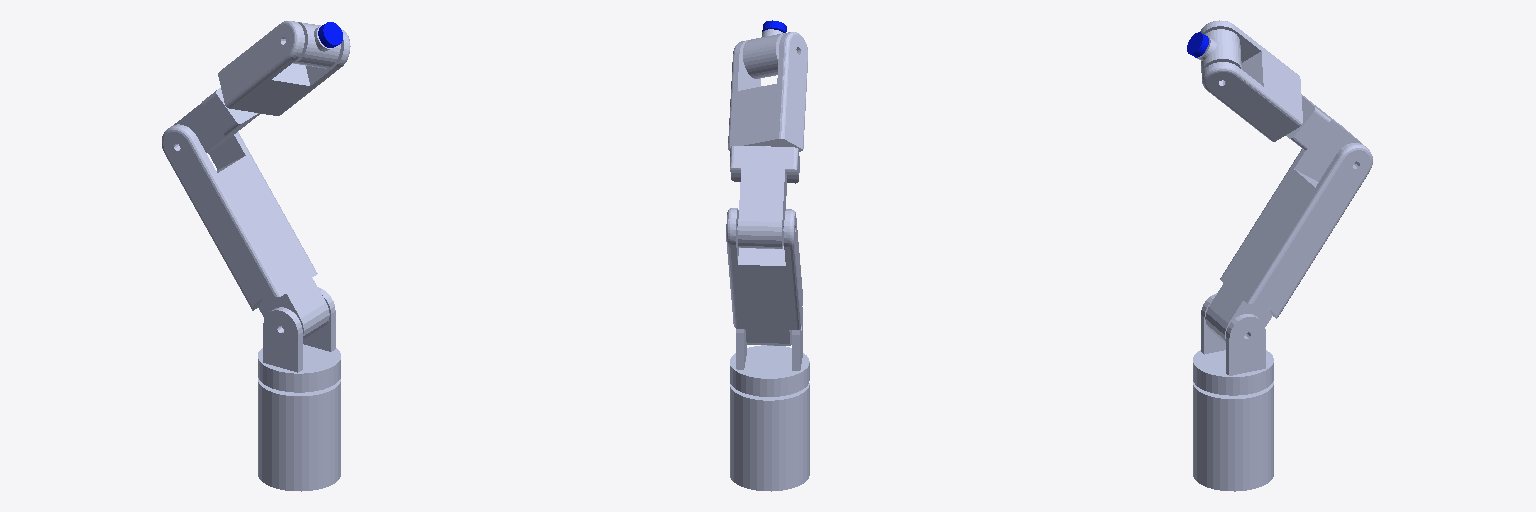
robot.urdf — project_arm:
<robot
  name="project_arm">
  <link
    name="base_link">
    <inertial>
      <origin
        xyz="0.159977322403691 0.0595697855248793 0.413545629248524"
        rpy="0 0 0" />
      <mass
        value="1.80013259050695" />
      <inertia
        ixx="0.0189018511031242"
        ixy="-3.67630047275961E-34"
        ixz="-1.26834607840043E-34"
        iyy="0.0146286691118082"
        iyz="9.52787687201713E-19"
        izz="0.0189018511031242" />
    </inertial>
    <visual>
      <origin
        xyz="0 0 0"
        rpy="0 0 0" />
      <geometry>
        <mesh
          filename="package://project_arm/meshes/base_link.STL" />
      </geometry>
      <material
        name="">
        <color
          rgba="0.792156862745098 0.819607843137255 0.933333333333333 1" />
      </material>
    </visual>
    <collision>
      <origin
        xyz="0 0 0"
        rpy="0 0 0" />
      <geometry>
        <mesh
          filename="package://project_arm/meshes/base_link.STL" />
      </geometry>
    </collision>
  </link>
  <link
    name="link0">
    <inertial>
      <origin
        xyz="0 0.0971546211411716 5.55111512312578E-17"
        rpy="0 0 0" />
      <mass
        value="2.17814144193182" />
      <inertia
        ixx="0.00956534263348092"
        ixy="-2.53143725716508E-18"
        ixz="4.33680868994202E-18"
        iyy="0.0109840073752695"
        iyz="1.62096801509212E-18"
        izz="0.0118204141151762" />
    </inertial>
    <visual>
      <origin
        xyz="0 0 0"
        rpy="0 0 0" />
      <geometry>
        <mesh
          filename="package://project_arm/meshes/link0.STL" />
      </geometry>
      <material
        name="">
        <color
          rgba="0.792156862745098 0.819607843137255 0.933333333333333 1" />
      </material>
    </visual>
    <collision>
      <origin
        xyz="0 0 0"
        rpy="0 0 0" />
      <geometry>
        <mesh
          filename="package://project_arm/meshes/link0.STL" />
      </geometry>
    </collision>
  </link>
  <joint
    name="axis_j1"
    type="revolute">
    <origin
      xyz="0.15998 -0.41355 0.12368"
      rpy="1.5708 2.681E-17 0.4532" />
    <parent
      link="base_link" />
    <child
      link="link0" />
    <axis
      xyz="0 1 0" />
    <limit
      lower="0"
      upper="6.2832"
      effort="0"
      velocity="0" />
  </joint>
  <link
    name="link1">
    <inertial>
      <origin
        xyz="2.99081225813708E-05 0.222632356912476 -9.29911836422548E-09"
        rpy="0 0 0" />
      <mass
        value="7.3527213171933" />
      <inertia
        ixx="0.149186053731648"
        ixy="3.13377626616771E-05"
        ixz="5.54679830920557E-08"
        iyy="0.0236983446969305"
        iyz="4.00754568332523E-09"
        izz="0.160879129783125" />
    </inertial>
    <visual>
      <origin
        xyz="0 0 0"
        rpy="0 0 0" />
      <geometry>
        <mesh
          filename="package://project_arm/meshes/link1.STL" />
      </geometry>
      <material
        name="">
        <color
          rgba="0.792156862745098 0.819607843137255 0.933333333333333 1" />
      </material>
    </visual>
    <collision>
      <origin
        xyz="0 0 0"
        rpy="0 0 0" />
      <geometry>
        <mesh
          filename="package://project_arm/meshes/link1.STL" />
      </geometry>
    </collision>
  </link>
  <joint
    name="axis_j2"
    type="revolute">
    <origin
      xyz="0 0.2 0"
      rpy="-0.62955 1.1102E-16 2.2204E-16" />
    <parent
      link="link0" />
    <child
      link="link1" />
    <axis
      xyz="1 0 0" />
    <limit
      lower="0"
      upper="6.2832"
      effort="0"
      velocity="0" />
  </joint>
  <link
    name="link2">
    <inertial>
      <origin
        xyz="-4.56502158296956E-09 0.0917546272457259 8.38033594602328E-09"
        rpy="0 0 0" />
      <mass
        value="2.92510845298576" />
      <inertia
        ixx="0.0193492144276055"
        ixy="9.67300179625236E-10"
        ixz="-1.1115823172949E-08"
        iyy="0.00654059433308316"
        iyz="-1.61287542620615E-09"
        izz="0.0175539353671357" />
    </inertial>
    <visual>
      <origin
        xyz="0 0 0"
        rpy="0 0 0" />
      <geometry>
        <mesh
          filename="package://project_arm/meshes/link2.STL" />
      </geometry>
      <material
        name="">
        <color
          rgba="0.792156862745098 0.819607843137255 0.933333333333333 1" />
      </material>
    </visual>
    <collision>
      <origin
        xyz="0 0 0"
        rpy="0 0 0" />
      <geometry>
        <mesh
          filename="package://project_arm/meshes/link2.STL" />
      </geometry>
    </collision>
  </link>
  <joint
    name="axis_j3"
    type="revolute">
    <origin
      xyz="0 0.5 0"
      rpy="1.5708 0.1463 1.5708" />
    <parent
      link="link1" />
    <child
      link="link2" />
    <axis
      xyz="0 0 1" />
    <limit
      lower="0"
      upper="6.28319"
      effort="0"
      velocity="0" />
  </joint>
  <link
    name="link3">
    <inertial>
      <origin
        xyz="1.11022302462516E-16 0.242837676403035 -5.55111512312578E-17"
        rpy="0 0 0" />
      <mass
        value="3.21530703455778" />
      <inertia
        ixx="0.0196189620102763"
        ixy="-1.8702487475375E-18"
        ixz="-1.39319979164387E-17"
        iyy="0.0121713416202854"
        iyz="-1.30104260698261E-18"
        izz="0.0265745317184481" />
    </inertial>
    <visual>
      <origin
        xyz="0 0 0"
        rpy="0 0 0" />
      <geometry>
        <mesh
          filename="package://project_arm/meshes/link3.STL" />
      </geometry>
      <material
        name="">
        <color
          rgba="0.792156862745098 0.819607843137255 0.933333333333333 1" />
      </material>
    </visual>
    <collision>
      <origin
        xyz="0 0 0"
        rpy="0 0 0" />
      <geometry>
        <mesh
          filename="package://project_arm/meshes/link3.STL" />
      </geometry>
    </collision>
  </link>
  <joint
    name="axis_j4"
    type="revolute">
    <origin
      xyz="0 0.071612 0"
      rpy="2.5553E-15 1.0223 2.4555E-15" />
    <parent
      link="link2" />
    <child
      link="link3" />
    <axis
      xyz="0 1 0" />
    <limit
      lower="0"
      upper="6.28319"
      effort="0"
      velocity="0" />
  </joint>
  <link
    name="link4">
    <inertial>
      <origin
        xyz="0.00199200479944683 -1.36459765154306E-08 2.12170278290902E-08"
        rpy="0 0 0" />
      <mass
        value="0.782661488302697" />
      <inertia
        ixx="0.00113485480500718"
        ixy="9.18611188472588E-10"
        ixz="-6.0844670547085E-10"
        iyy="0.00120750348178087"
        iyz="1.20797542255754E-09"
        izz="0.00107133390488715" />
    </inertial>
    <visual>
      <origin
        xyz="0 0 0"
        rpy="0 0 0" />
      <geometry>
        <mesh
          filename="package://project_arm/meshes/link4.STL" />
      </geometry>
      <material
        name="">
        <color
          rgba="0.792156862745098 0.819607843137255 0.933333333333333 1" />
      </material>
    </visual>
    <collision>
      <origin
        xyz="0 0 0"
        rpy="0 0 0" />
      <geometry>
        <mesh
          filename="package://project_arm/meshes/link4.STL" />
      </geometry>
    </collision>
  </link>
  <joint
    name="axis_j5"
    type="revolute">
    <origin
      xyz="0 0.38839 0"
      rpy="-1.5708 0.15485 1.5708" />
    <parent
      link="link3" />
    <child
      link="link4" />
    <axis
      xyz="0 0 1" />
    <limit
      lower="0"
      upper="6.28319"
      effort="0"
      velocity="0" />
  </joint>
  <link
    name="link_gripper">
    <inertial>
      <origin
        xyz="0.071590909090909 -0.00619398594642601 0.0078507667202308"
        rpy="0 0 0" />
      <mass
        value="0.0691150383789754" />
      <inertia
        ixx="2.70176968208722E-05"
        ixy="4.48927462044779E-20"
        ixz="-1.77876918923403E-20"
        iyy="1.97218238817968E-05"
        iyz="4.2351647362715E-22"
        izz="1.97218238817968E-05" />
    </inertial>
    <visual>
      <origin
        xyz="0 0 0"
        rpy="0 0 0" />
      <geometry>
        <mesh
          filename="package://project_arm/meshes/link_gripper.STL" />
      </geometry>
      <material
        name="">
        <color
          rgba="0.0588235294117647 0.149019607843137 1 1" />
      </material>
    </visual>
    <collision>
      <origin
        xyz="0 0 0"
        rpy="0 0 0" />
      <geometry>
        <mesh
          filename="package://project_arm/meshes/link_gripper.STL" />
      </geometry>
    </collision>
  </link>
  <joint
    name="axis_j6"
    type="revolute">
    <origin
      xyz="0 0.01 0"
      rpy="0.90282 2.04E-15 -4.9405E-15" />
    <parent
      link="link4" />
    <child
      link="link_gripper" />
    <axis
      xyz="1 0 0" />
    <limit
      lower="0"
      upper="6.2832"
      effort="0"
      velocity="0" />
  </joint>
</robot>

--- What the picture shows (computed from the rendered views, not written in the file) ---
The picture shows the robot from 3 angles, left to right: view 1: azimuth 30°, elevation 25°; view 2: azimuth 150°, elevation 25°; view 3: azimuth 270°, elevation 25°; orthographic projection.
Model project_arm with 7 links and 6 joints (6 revolute), rooted at base_link, posed all joints at 0.
Visible links, largest first — view 1: link1, base_link, link3, link0, link2, link4; view 2: base_link, link1, link3, link2, link0, link4; view 3: link1, base_link, link3, link0, link2, link4.
Boxes of the visible links, x1,y1,x2,y2 form: link1: (162,124,329,339); base_link: (258,378,340,491); link3: (218,21,350,115); link0: (258,287,340,392); link2: (174,88,259,152); link4: (293,22,340,68); base_link: (730,383,809,491); link1: (726,208,802,345); link3: (728,32,807,151); link2: (730,146,799,248); link0: (730,307,809,396); link4: (743,29,784,78); link1: (1205,125,1372,342); base_link: (1193,381,1273,491); link3: (1200,20,1302,141); link0: (1193,293,1273,395); link2: (1286,94,1361,167); link4: (1197,29,1241,72).
Size in the robot's own frame: 0.3332 by 0.4576 by 1.21 metres.
Meshes: 7 distinct files referenced, 7 mesh visuals loaded (7 binary STL).